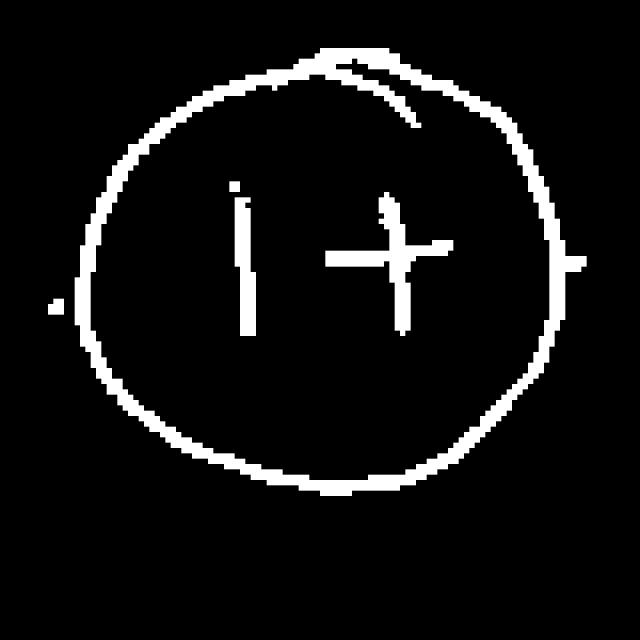voltage_source: (69, 39, 575, 505)
